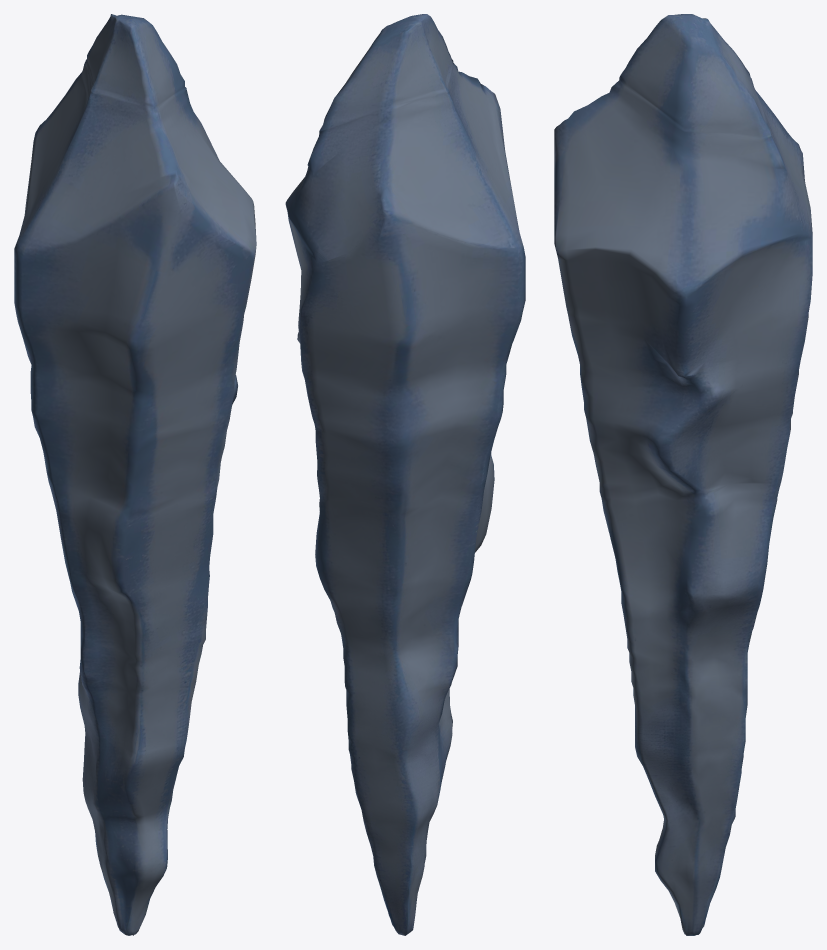
The model's file is selected.glb.
The picture shows the model from 3 angles, left to right: view 1: azimuth 30°, elevation 25°; view 2: azimuth 150°, elevation 25°; view 3: azimuth 270°, elevation 25°; orthographic projection.
Parts seen in each view (by area): view 1: tripo_node_c7e602b6-53f7-45cf-ab0e-d7fe7bd7c1cd; view 2: tripo_node_c7e602b6-53f7-45cf-ab0e-d7fe7bd7c1cd; view 3: tripo_node_c7e602b6-53f7-45cf-ab0e-d7fe7bd7c1cd.
Part boxes in pixels (x1=…): tripo_node_c7e602b6-53f7-45cf-ab0e-d7fe7bd7c1cd: x1=14, y1=14, x2=256, y2=935; tripo_node_c7e602b6-53f7-45cf-ab0e-d7fe7bd7c1cd: x1=285, y1=14, x2=525, y2=935; tripo_node_c7e602b6-53f7-45cf-ab0e-d7fe7bd7c1cd: x1=554, y1=14, x2=812, y2=935.
Bounding box in the file's own units: 0.2676 × 0.998 × 0.2559.
Materials: 1 (1 with a texture image).
